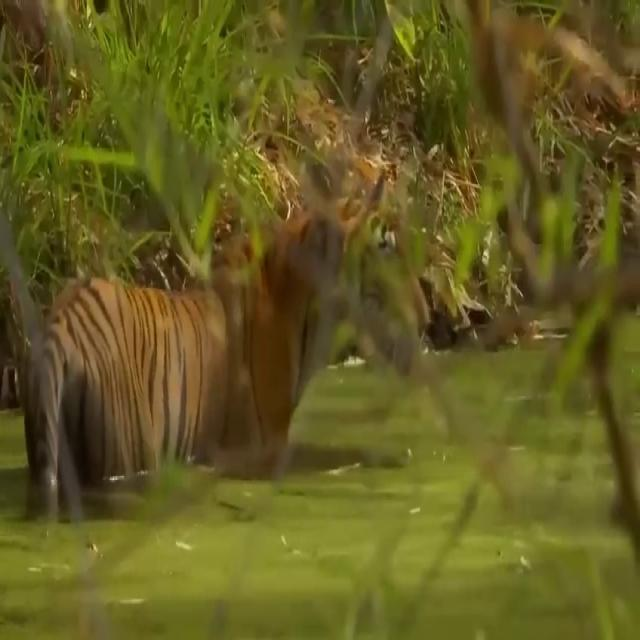tiger: (26, 165, 430, 515)
